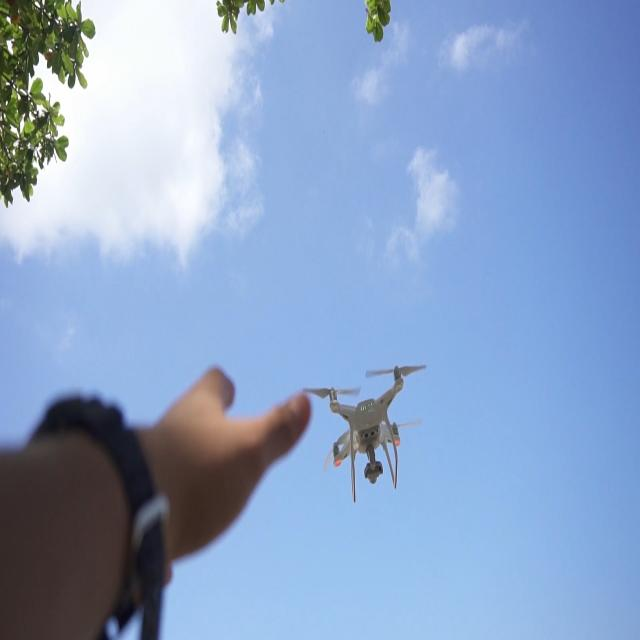Drone: (302, 359, 440, 510)
